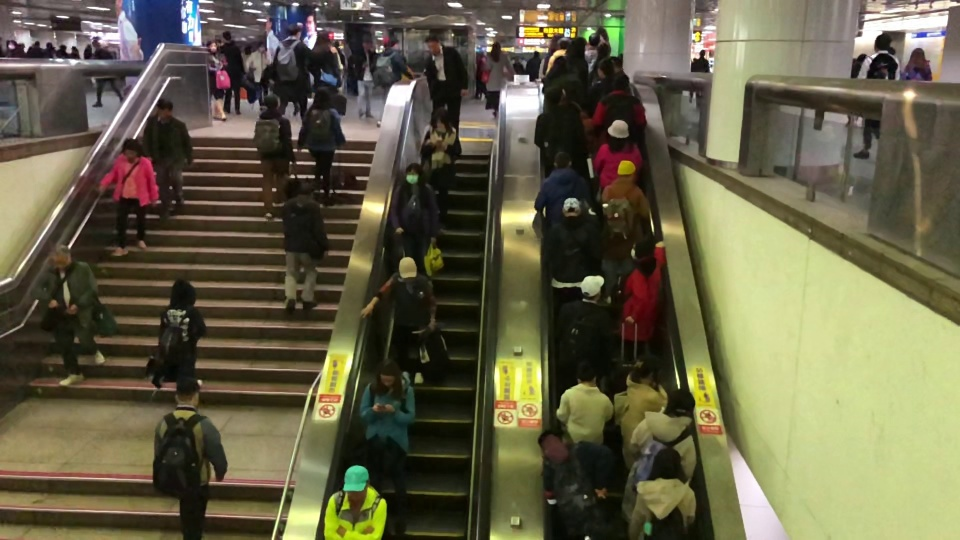person_head: (650, 446, 683, 480), (342, 463, 370, 502), (663, 386, 697, 418), (174, 377, 202, 407), (633, 356, 661, 385), (606, 118, 631, 150), (170, 278, 197, 307), (375, 358, 401, 387), (536, 428, 561, 456), (580, 273, 604, 302), (628, 236, 653, 259), (575, 361, 597, 385), (49, 244, 70, 269), (397, 257, 417, 281), (430, 108, 450, 131), (121, 137, 142, 158), (545, 85, 566, 106), (404, 162, 423, 185), (551, 56, 571, 76), (561, 197, 581, 216), (874, 32, 892, 53), (313, 86, 331, 106), (156, 97, 174, 117), (567, 40, 585, 60), (612, 73, 629, 94), (617, 159, 636, 176), (424, 33, 440, 53), (553, 150, 571, 167), (598, 59, 614, 78), (263, 93, 279, 110), (910, 47, 925, 65), (314, 30, 330, 46), (297, 179, 313, 195), (288, 23, 302, 37), (589, 31, 600, 48), (387, 37, 401, 49), (597, 43, 607, 59), (361, 35, 371, 49), (91, 39, 103, 49), (490, 41, 500, 52), (8, 39, 17, 51), (208, 41, 217, 53), (222, 30, 231, 42), (559, 38, 569, 47), (856, 53, 865, 62), (698, 48, 706, 57), (32, 38, 39, 48), (45, 41, 52, 50), (258, 41, 264, 51), (71, 45, 78, 53), (59, 43, 66, 50), (533, 49, 538, 58)
person_vbox: (153, 376, 228, 540), (29, 243, 106, 389), (620, 386, 698, 523), (359, 358, 416, 536), (359, 256, 436, 385), (538, 429, 613, 539), (599, 158, 652, 301), (98, 137, 158, 256), (280, 179, 329, 316), (141, 97, 193, 224), (627, 446, 697, 540), (612, 355, 668, 472), (295, 85, 346, 208), (616, 236, 666, 354), (852, 32, 897, 161), (251, 93, 295, 222), (548, 197, 600, 303), (389, 162, 438, 273), (420, 107, 463, 231), (557, 275, 612, 370), (533, 149, 601, 223), (322, 464, 388, 540), (157, 278, 203, 387), (423, 33, 470, 135), (557, 361, 613, 444), (532, 83, 586, 167), (590, 74, 646, 150), (273, 23, 314, 119), (593, 117, 643, 192), (90, 39, 123, 109), (219, 30, 245, 114), (484, 40, 514, 112), (352, 35, 377, 121), (375, 36, 412, 93), (543, 56, 583, 107), (311, 29, 344, 89), (246, 41, 273, 108), (207, 40, 229, 121), (590, 59, 623, 113), (899, 47, 932, 81), (544, 37, 570, 71), (693, 49, 709, 75), (526, 51, 540, 78), (7, 39, 24, 57), (27, 39, 42, 58), (56, 44, 67, 59), (45, 42, 54, 57), (71, 45, 80, 58)
